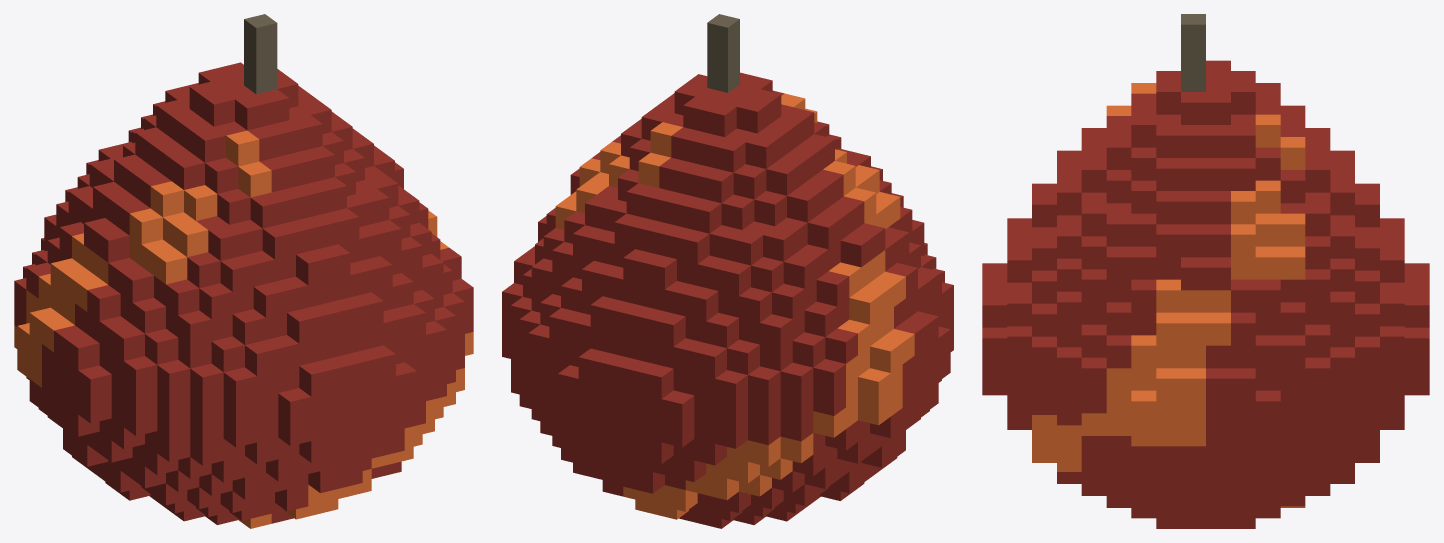
The model's file is magu_magu.glb.
3 renders of one model, left to right at view 1: azimuth 30°, elevation 25°; view 2: azimuth 150°, elevation 25°; view 3: azimuth 270°, elevation 25°, orthographic. The views are drawn at different scales.
Visible parts, largest first — view 1: akuma_magu_magu; view 2: akuma_magu_magu; view 3: akuma_magu_magu.
Part boxes in pixels (bbox=[...]): akuma_magu_magu: bbox=[14, 14, 473, 528]; akuma_magu_magu: bbox=[502, 14, 953, 528]; akuma_magu_magu: bbox=[982, 14, 1429, 528].
Bounding box in the file's own units: 0.468 × 0.546 × 0.468.
Materials: 1 (1 with a texture image).
